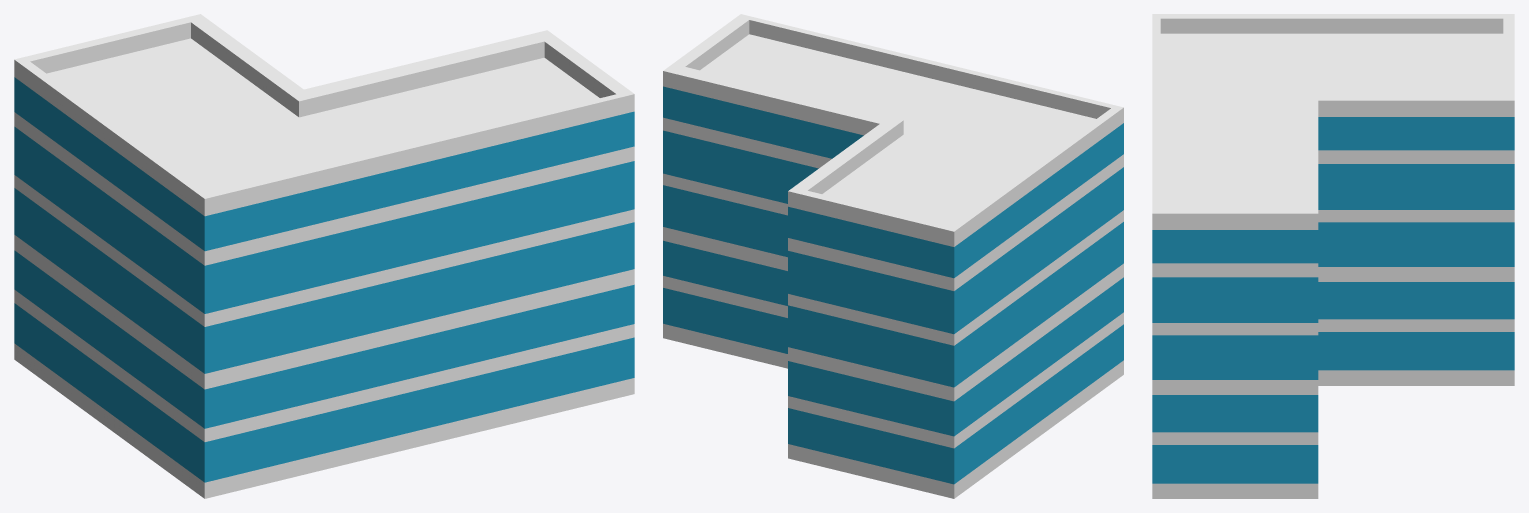
Rendered from lowploybuilding4.FBX.
3 views of the same model, side by side, from view 1: azimuth 30°, elevation 25°; view 2: azimuth 150°, elevation 25°; view 3: azimuth 270°, elevation 25° (orthographic). The views are drawn at different scales.
Visible parts, largest first — view 1: Plane001; view 2: Plane001; view 3: Plane001.
Part boxes in pixels (<box>): Plane001: <box>14,14,634,498</box>; Plane001: <box>663,14,1123,498</box>; Plane001: <box>1152,14,1514,498</box>.
Size of the model in its own units: 177 by 118 by 136.
